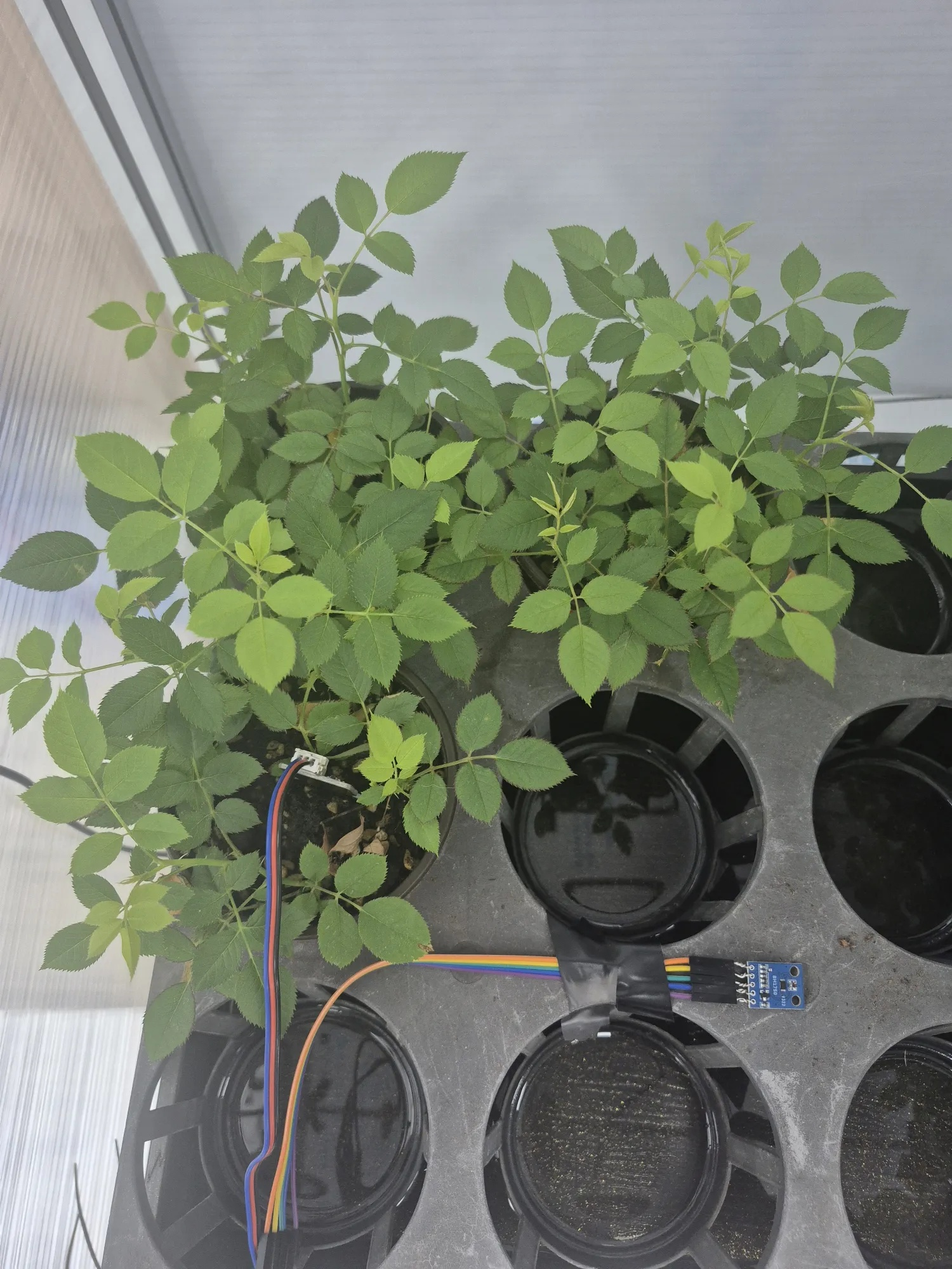Fresh Leaves: (94, 668, 264, 852), (19, 674, 162, 828), (138, 888, 266, 1058), (166, 309, 319, 414), (167, 252, 317, 358), (270, 381, 390, 482), (550, 227, 670, 318), (186, 589, 296, 688), (372, 305, 477, 406), (665, 550, 764, 657), (453, 380, 534, 508), (149, 850, 263, 938), (750, 366, 873, 444), (295, 599, 398, 689), (439, 567, 514, 687), (520, 476, 593, 596), (75, 431, 163, 529), (595, 391, 686, 480), (559, 619, 649, 704), (778, 244, 843, 360), (671, 447, 746, 547), (397, 643, 475, 736), (211, 500, 293, 588), (157, 405, 223, 512), (300, 271, 371, 370), (641, 459, 715, 553), (776, 546, 854, 629), (440, 357, 520, 437), (621, 296, 696, 381), (354, 706, 429, 791), (423, 540, 522, 604), (392, 567, 472, 645), (775, 436, 863, 504), (684, 240, 745, 336), (813, 504, 909, 565), (117, 604, 197, 676), (56, 897, 130, 971), (8, 531, 102, 589), (82, 895, 147, 976), (832, 440, 902, 513), (164, 252, 251, 310), (386, 152, 465, 215), (597, 510, 666, 582), (225, 715, 304, 777), (702, 391, 767, 466), (375, 690, 443, 761), (105, 510, 182, 572), (466, 422, 520, 508), (223, 549, 293, 614), (489, 738, 574, 791), (145, 974, 196, 1058), (126, 812, 188, 880), (69, 832, 125, 907), (528, 481, 586, 553), (583, 500, 638, 575), (19, 775, 102, 824), (627, 587, 692, 648), (688, 642, 740, 718), (89, 301, 157, 358), (782, 612, 836, 683), (548, 225, 627, 273), (224, 686, 301, 735), (443, 567, 503, 629), (259, 574, 333, 624), (546, 527, 600, 595), (737, 433, 801, 489), (212, 499, 270, 560), (187, 589, 255, 641), (95, 574, 154, 633), (785, 302, 843, 362), (254, 452, 308, 516), (303, 695, 363, 752), (251, 231, 320, 280), (505, 261, 552, 331), (451, 758, 501, 823), (171, 301, 228, 357), (840, 566, 882, 641), (822, 376, 873, 435), (729, 323, 782, 378), (704, 220, 751, 282), (725, 494, 769, 559), (456, 692, 502, 754), (556, 368, 610, 420), (429, 629, 479, 685), (267, 382, 320, 434), (727, 593, 778, 647), (261, 261, 319, 308), (580, 574, 644, 615), (689, 338, 732, 399), (509, 591, 571, 633), (336, 173, 377, 233), (44, 921, 93, 971), (488, 338, 546, 380), (184, 545, 228, 600), (480, 548, 524, 603), (820, 272, 893, 305), (720, 287, 760, 347), (294, 201, 337, 256), (324, 732, 371, 782), (854, 306, 907, 350), (902, 426, 951, 473), (550, 418, 600, 464), (365, 229, 414, 275), (343, 341, 388, 391), (508, 383, 558, 428), (546, 314, 597, 358), (854, 306, 906, 349), (8, 678, 51, 730), (781, 244, 821, 299), (312, 254, 373, 290), (750, 613, 795, 661), (592, 322, 644, 363), (591, 462, 637, 508), (464, 466, 510, 511), (425, 440, 474, 482), (139, 927, 195, 963), (400, 418, 454, 455), (779, 337, 838, 370), (145, 552, 183, 603), (750, 522, 793, 567), (373, 305, 416, 349), (146, 954, 194, 992), (207, 634, 244, 683), (922, 497, 951, 557), (513, 553, 556, 593), (423, 390, 459, 437), (213, 798, 260, 834), (17, 627, 55, 670), (89, 302, 145, 331), (631, 256, 670, 297), (751, 556, 791, 595), (671, 554, 708, 596), (74, 805, 129, 832), (670, 421, 710, 458), (848, 357, 890, 391), (242, 228, 277, 267), (748, 481, 783, 520), (317, 268, 347, 313), (581, 482, 637, 506), (694, 296, 724, 340), (265, 518, 294, 562), (338, 263, 377, 295), (126, 319, 157, 358), (173, 301, 205, 336), (355, 780, 387, 810), (432, 485, 456, 522), (61, 623, 81, 667), (652, 645, 687, 670), (720, 380, 753, 406), (0, 660, 26, 693), (166, 598, 185, 641), (144, 290, 166, 324), (321, 265, 347, 293), (169, 325, 191, 357)
